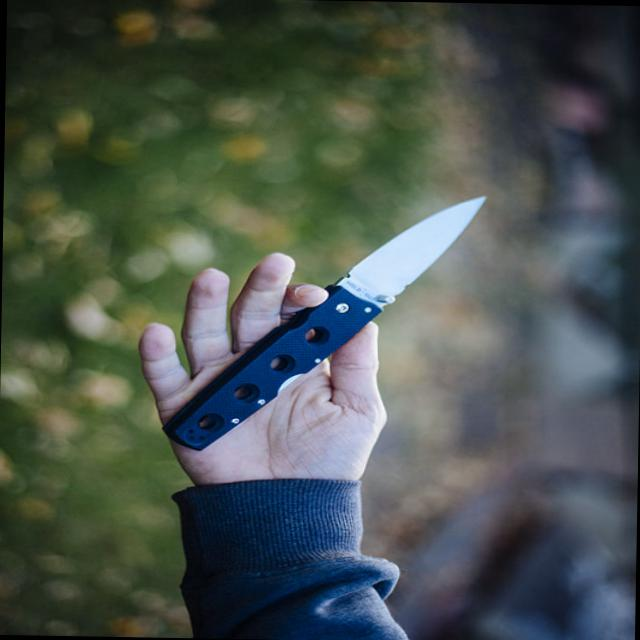knife: (181, 183, 502, 407)
